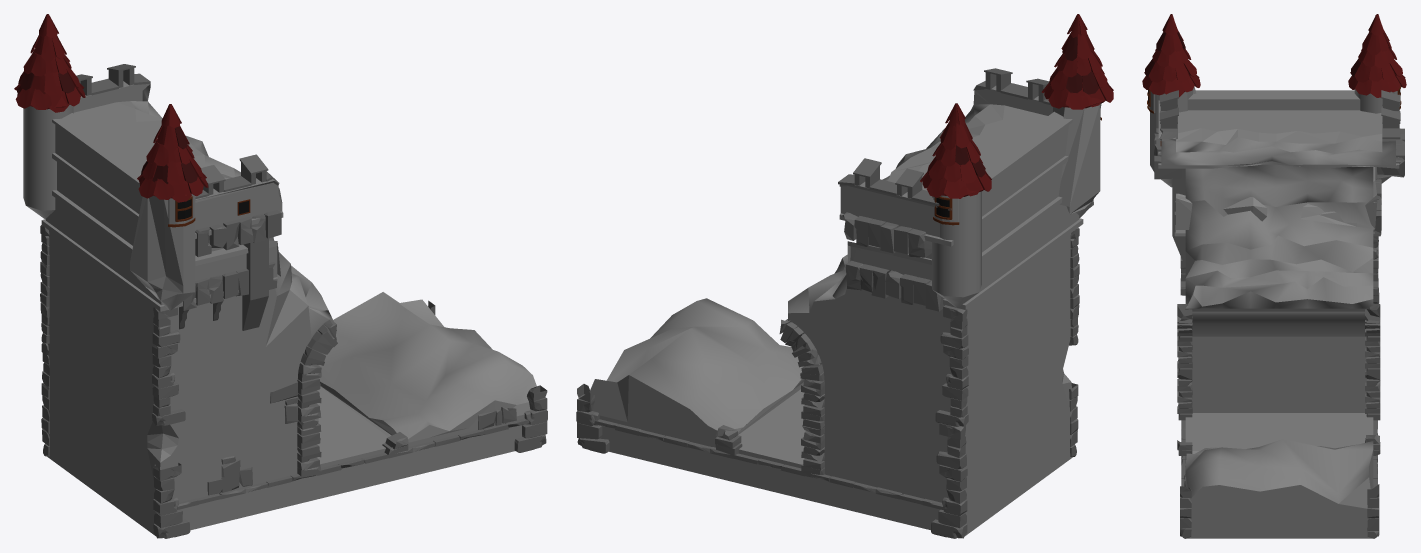
Rendered from broken gate.fbx.
3 renders of one model, left to right at view 1: azimuth 30°, elevation 25°; view 2: azimuth 150°, elevation 25°; view 3: azimuth 270°, elevation 25°, orthographic. The views are drawn at different scales.
Visible parts, largest first — view 1: Box032; view 2: Box032; view 3: Box032.
Boxes of the visible parts, <box> form: Box032: <box>14,14,547,538</box>; Box032: <box>576,14,1113,538</box>; Box032: <box>1142,14,1406,538</box>.
Bounding box in the file's own units: 644 × 653 × 425.
